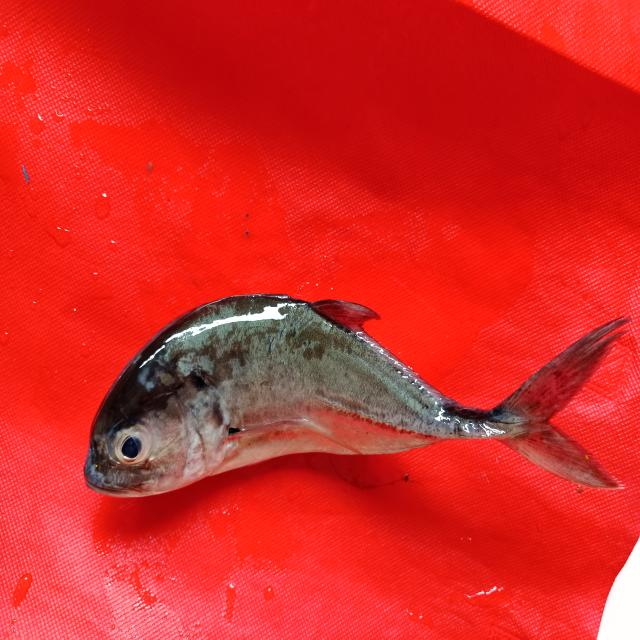ikan: (62, 266, 634, 516)
